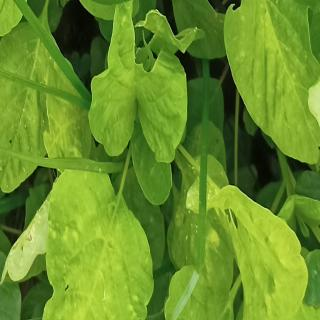karat_putih: (36, 150, 155, 320)
